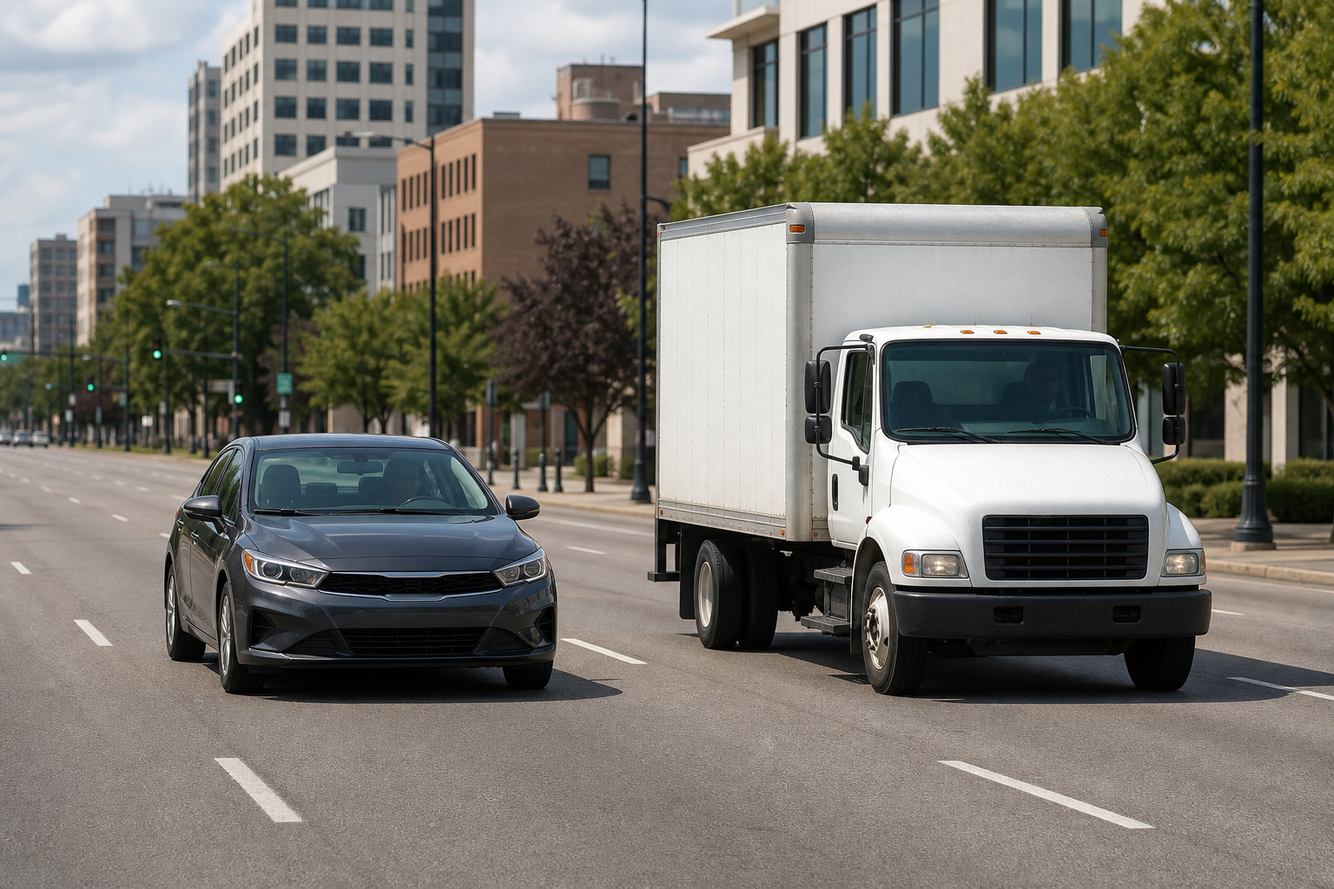car: (165, 433, 565, 695), (11, 430, 32, 447), (29, 432, 49, 448), (0, 431, 13, 445)
person: (1002, 359, 1069, 423), (366, 457, 435, 506), (490, 438, 501, 471)
truck: (639, 190, 1190, 686)
